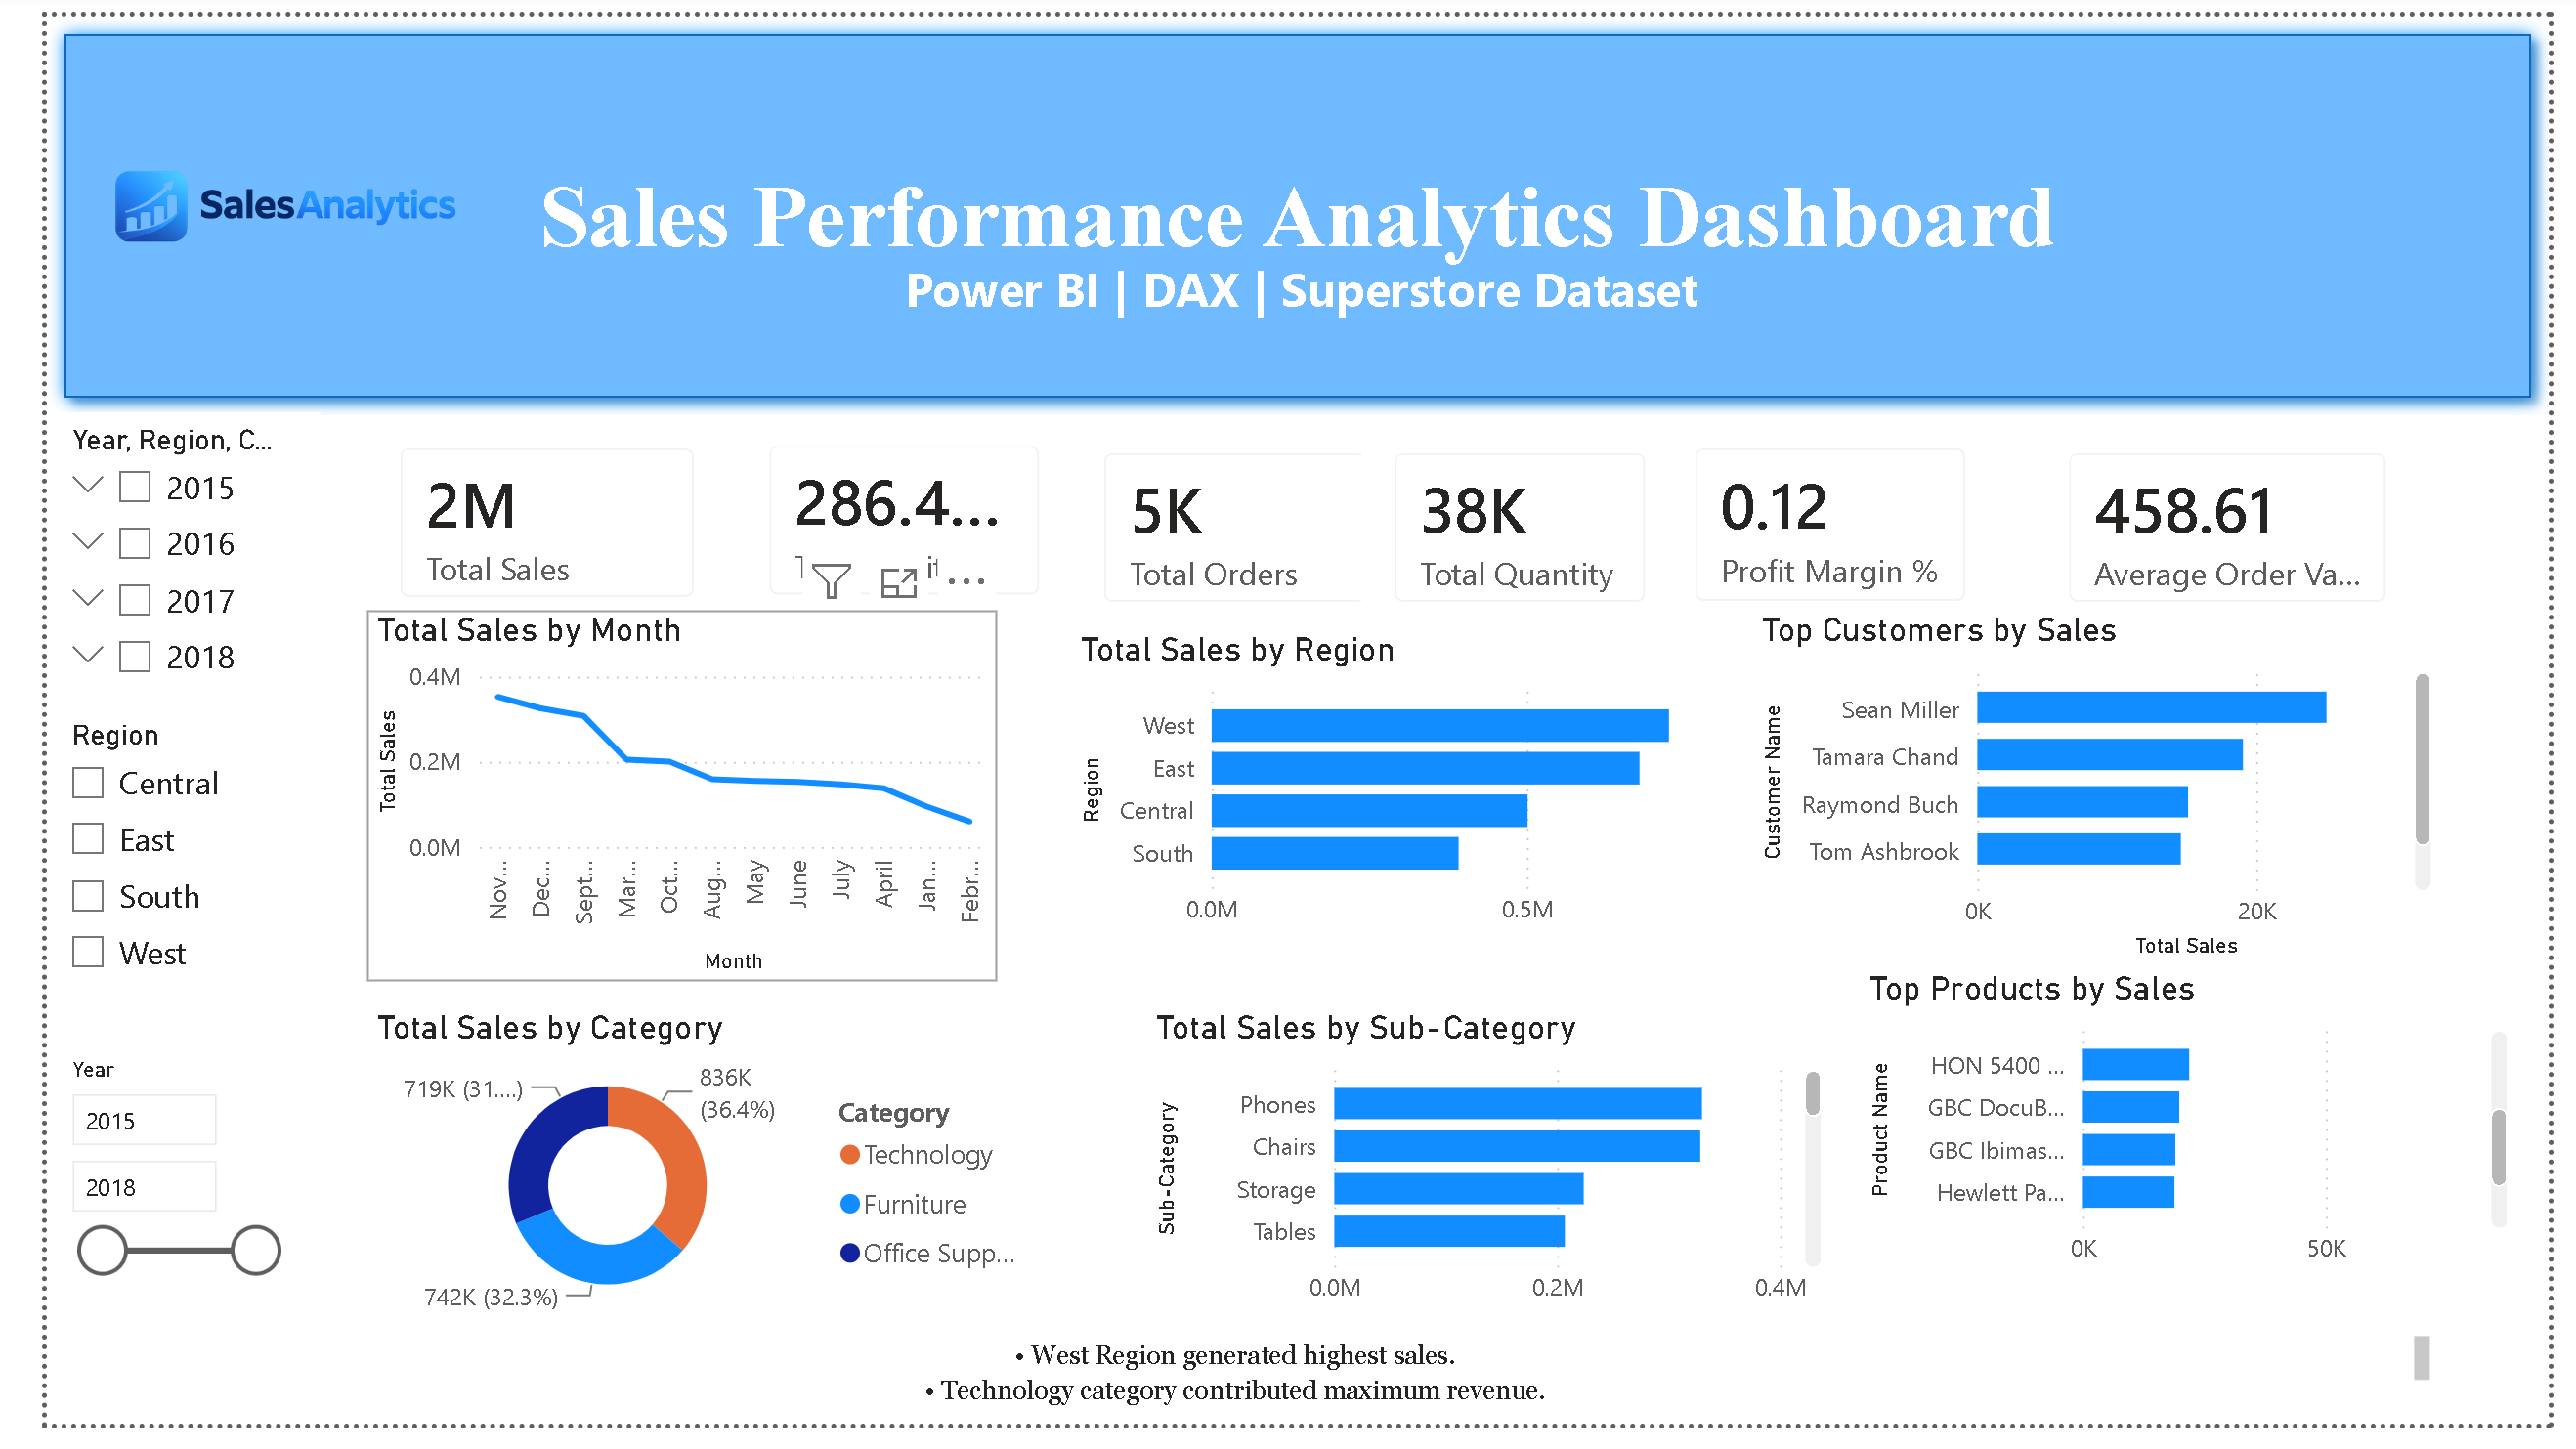

What the dashboard file says about the page in this screenshot:
{"tool":"powerbi","page":{"name":"Page 1","canvas":[1280,720],"ordinal":0},"visuals":[{"type":"cardVisual","fields":{"Data":["Data Table.Total Orders"]},"box":[524,206,168,110],"z":0},{"type":"cardVisual","fields":{"Data":["Data Table.Total Profit"]},"box":[352,202,172,110],"z":1000},{"type":"cardVisual","fields":{"Data":["Data Table.Total Quantity"]},"box":[672,206,162,110],"z":2000},{"type":"cardVisual","fields":{"Data":["Data Table.Profit Margin %"]},"box":[826,204,172,112],"z":3000},{"type":"cardVisual","fields":{"Data":["Data Table.Average Order Value"]},"box":[1018,206,196,110],"z":4000},{"type":"shape","box":[0,0,1280,204],"z":5000},{"type":"image","box":[0,0,256.7,203.3],"z":6000},{"type":"cardVisual","fields":{"Data":["Sales_Data.Total Sales"]},"box":[164,204,184,110],"z":7000},{"type":"lineChart","fields":{"Category":["Data Table.Month"],"Y":["Sales_Data.Total Sales"]},"box":[164,304,322,190],"z":8000},{"type":"clusteredBarChart","fields":{"Category":["Sales_Data.Region"],"Y":["Sales_Data.Total Sales"]},"box":[524,314,348,162],"z":9000},{"type":"donutChart","fields":{"Category":["Sales_Data.Category"],"Y":["Sales_Data.Total Sales"]},"box":[164,508,348,162],"z":10000},{"type":"clusteredBarChart","fields":{"Category":["Sales_Data.Sub-Category"],"Y":["Sales_Data.Total Sales"]},"box":[562,508,350,162],"z":11000},{"type":"clusteredBarChart","title":"Top Customers by Sales","fields":{"Category":["Sales_Data.Customer Name"],"Y":["Sales_Data.Total Sales"]},"box":[872,304,352,182],"z":12000},{"type":"clusteredBarChart","title":"Top Products by Sales","fields":{"Category":["Sales_Data.Product Name"],"Y":["Sales_Data.Total Sales"]},"box":[928,488,336,162],"z":13000},{"type":"slicer","fields":{"Values":["Data Table.Year","Sales_Data.Region","Sales_Data.Category"]},"box":[0,202,140,162],"z":14000},{"type":"slicer","fields":{"Values":["Sales_Data.Region"]},"box":[0,354,134,174],"z":15000},{"type":"slicer","fields":{"Values":["Data Table.Year"]},"box":[0,528,128,122],"z":16000},{"type":"textbox","box":[60,118,1164,70],"z":17000},{"type":"textbox","box":[0,670,1224,50],"z":17001}]}

Visuals, with their boxes in screenshot pixels (x1, y1, x2, y2), scaled from the page's 1280x720 canvas onto the 2576x1449 screenshot:
cardVisual - Data Table.Total Orders: pyautogui.locateOnScreen(1054, 414, 1393, 636)
cardVisual - Data Table.Total Profit: pyautogui.locateOnScreen(708, 406, 1054, 628)
cardVisual - Data Table.Total Quantity: pyautogui.locateOnScreen(1352, 414, 1679, 636)
cardVisual - Data Table.Profit Margin %: pyautogui.locateOnScreen(1662, 410, 2008, 636)
cardVisual - Data Table.Average Order Value: pyautogui.locateOnScreen(2048, 414, 2443, 636)
shape: pyautogui.locateOnScreen(0, 0, 2575, 410)
image: pyautogui.locateOnScreen(0, 0, 517, 409)
cardVisual - Sales_Data.Total Sales: pyautogui.locateOnScreen(330, 410, 701, 632)
lineChart - Data Table.Month x Sales_Data.Total Sales: pyautogui.locateOnScreen(330, 612, 978, 995)
clusteredBarChart - Sales_Data.Region x Sales_Data.Total Sales: pyautogui.locateOnScreen(1054, 632, 1755, 958)
donutChart - Sales_Data.Category x Sales_Data.Total Sales: pyautogui.locateOnScreen(330, 1022, 1030, 1348)
clusteredBarChart - Sales_Data.Sub-Category x Sales_Data.Total Sales: pyautogui.locateOnScreen(1131, 1022, 1835, 1348)
"Top Customers by Sales" clusteredBarChart: pyautogui.locateOnScreen(1755, 612, 2464, 978)
"Top Products by Sales" clusteredBarChart: pyautogui.locateOnScreen(1868, 982, 2544, 1308)
slicer - Data Table.Year x Sales_Data.Region: pyautogui.locateOnScreen(0, 406, 281, 733)
slicer - Sales_Data.Region: pyautogui.locateOnScreen(0, 712, 270, 1063)
slicer - Data Table.Year: pyautogui.locateOnScreen(0, 1063, 258, 1308)
textbox: pyautogui.locateOnScreen(121, 237, 2464, 378)
textbox: pyautogui.locateOnScreen(0, 1348, 2464, 1448)
